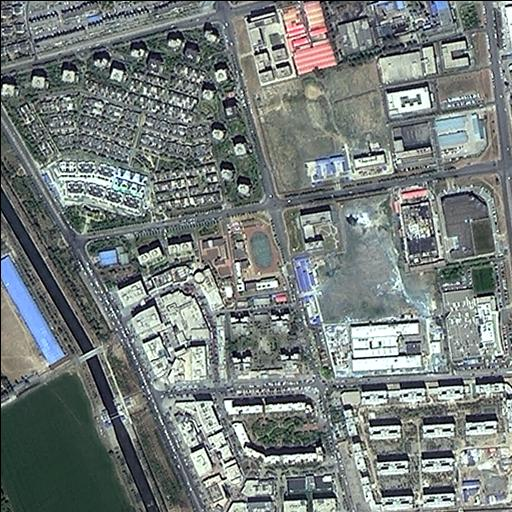school: (218, 210, 292, 295)
